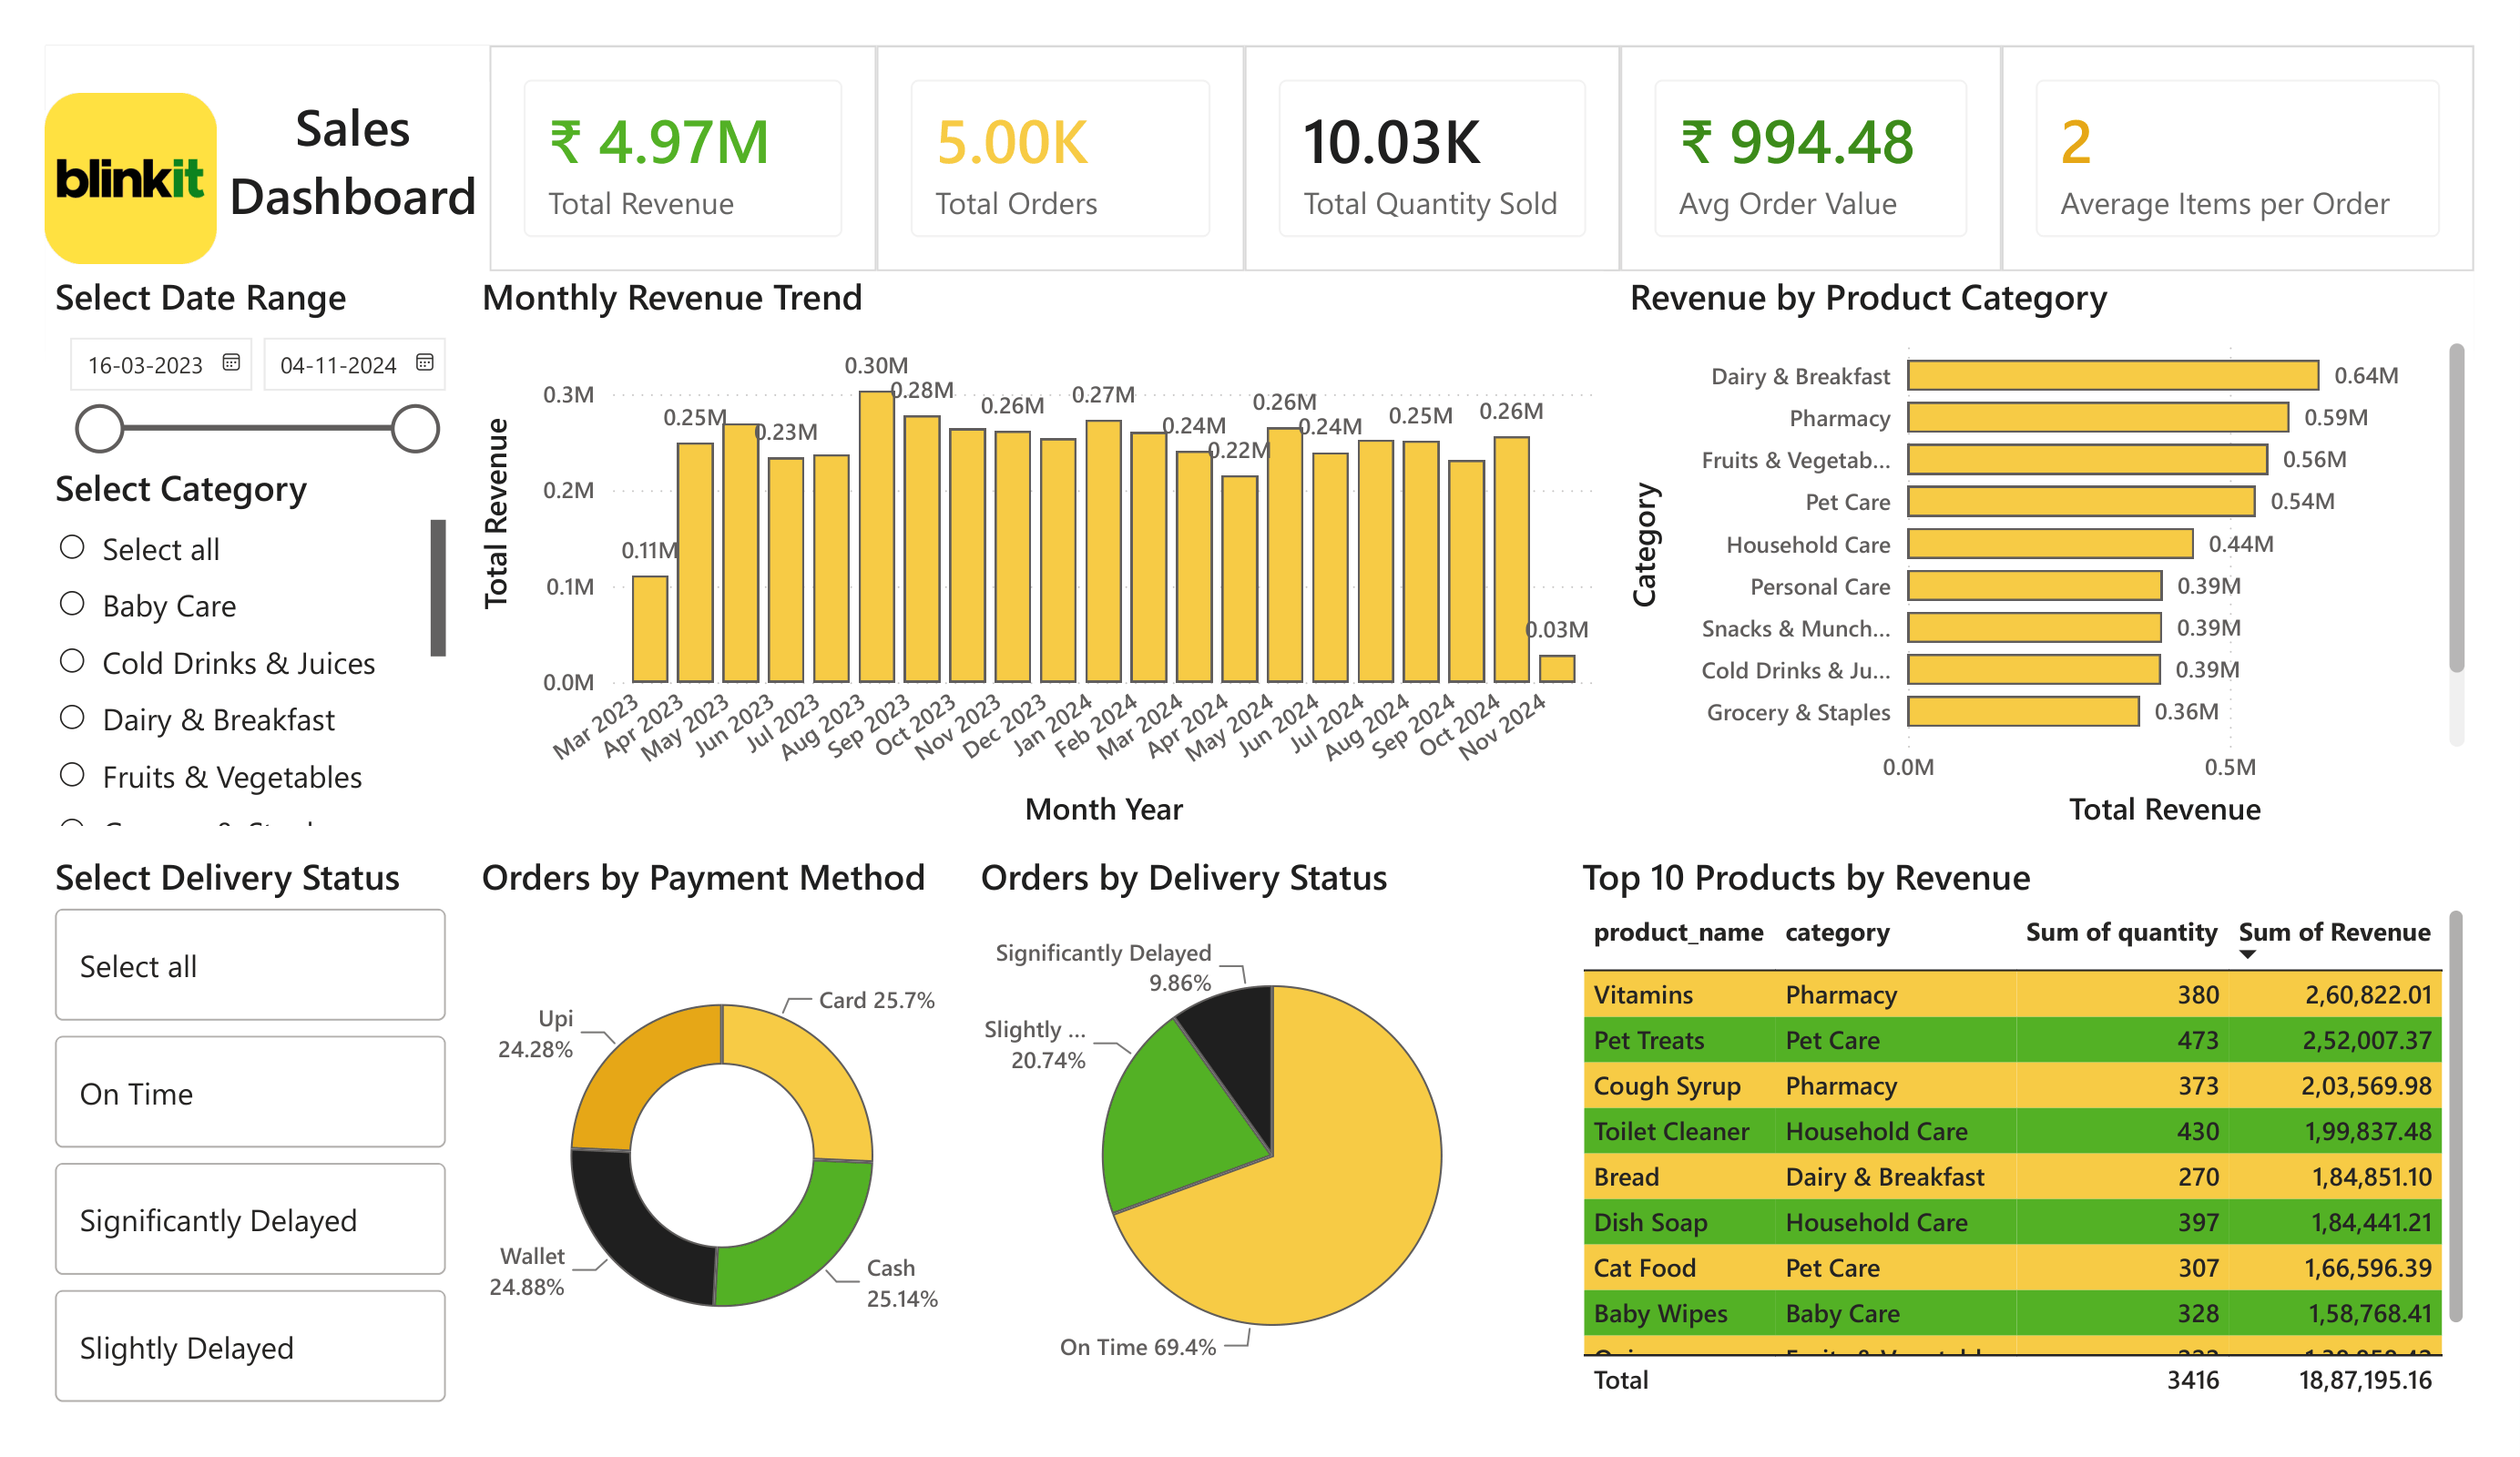

Layout of this report page (visuals, bound fields, positions):
{"tool":"powerbi","page":{"name":"Sales Dashboard","canvas":[1280,720],"ordinal":1},"visuals":[{"type":"cardVisual","fields":{"Data":["measures_table.Total Revenue"]},"box":[233.9,0,204,119.4],"z":0},{"type":"cardVisual","fields":{"Data":["measures_table.Total Orders"]},"box":[437.9,0,194.1,119.4],"z":1000},{"type":"cardVisual","fields":{"Data":["measures_table.Total Quantity Sold"]},"box":[631.9,0,197.8,119.4],"z":2000},{"type":"cardVisual","fields":{"Data":["measures_table.Avg Order Value"]},"box":[829.7,0,201.5,119.4],"z":3000},{"type":"cardVisual","fields":{"Data":["measures_table.Average Items per Order"]},"box":[1031.2,0,248.8,119.4],"z":4000},{"type":"textbox","box":[89.6,18.7,144.3,100.8],"z":5000},{"type":"clusteredBarChart","title":"Revenue by Product Category","fields":{"Y":["measures_table.Total Revenue"],"Category":["products_features.category"]},"box":[829.7,119.4,450.3,297.3],"z":6000},{"type":"clusteredColumnChart","title":"Monthly Revenue Trend","fields":{"Y":["measures_table.Total Revenue"],"Category":["Calender.Month Year"]},"box":[225.2,119.4,595.9,297.3],"z":7000},{"type":"donutChart","title":"Orders by Payment Method","fields":{"Y":["measures_table.Total Orders"],"Category":["orders_features.payment_method"]},"box":[225.2,425.4,262.5,294.8],"z":8000},{"type":"pieChart","title":"Orders by Delivery Status","fields":{"Category":["orders_features.delivery_status"],"Y":["measures_table.Total Orders"]},"box":[487.6,425.4,317.2,294.8],"z":9000},{"type":"tableEx","title":"Top 10 Products by Revenue","fields":{"Values":["products_features.product_name","products_features.category","Sum(order_items_features.quantity)","Sum(order_items_features.Revenue)"]},"box":[804.8,425.4,475.2,294.8],"z":10000},{"type":"slicer","title":"Select Date Range","fields":{"Values":["Calender.Date"]},"box":[0,119.4,216.4,100.8],"z":11000},{"type":"listSlicer","title":"Select Category","fields":{"Values":["products_features.category"]},"box":[0,220,216,196],"z":12000},{"type":"advancedSlicerVisual","title":"Select Delivery Status","fields":{"Values":["orders_features.delivery_status"]},"box":[0,425,216,295],"z":13000},{"type":"image","box":[0,24.9,90,90],"z":14000}]}

Visuals, with their boxes on the page's 1280x720 design canvas (x1, y1, x2, y2). These are canvas units, not pixel positions in the 2520x1457 screenshot, which may show the page scaled, cropped or inside an application window:
cardVisual - measures_table.Total Revenue: 234:0:438:119
cardVisual - measures_table.Total Orders: 438:0:632:119
cardVisual - measures_table.Total Quantity Sold: 632:0:830:119
cardVisual - measures_table.Avg Order Value: 830:0:1031:119
cardVisual - measures_table.Average Items per Order: 1031:0:1280:119
textbox: 90:19:234:120
"Revenue by Product Category" clusteredBarChart: 830:119:1280:417
"Monthly Revenue Trend" clusteredColumnChart: 225:119:821:417
"Orders by Payment Method" donutChart: 225:425:488:720
"Orders by Delivery Status" pieChart: 488:425:805:720
"Top 10 Products by Revenue" tableEx: 805:425:1280:720
"Select Date Range" slicer: 0:119:216:220
"Select Category" listSlicer: 0:220:216:416
"Select Delivery Status" advancedSlicerVisual: 0:425:216:720
image: 0:25:90:115
